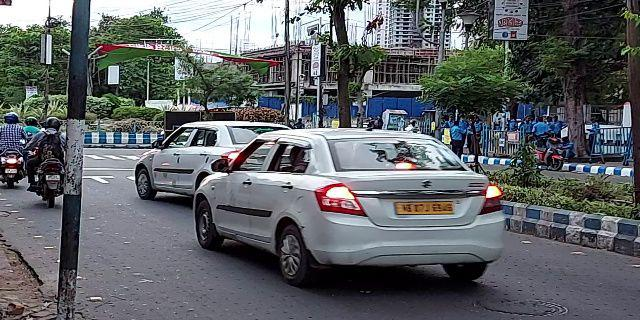Car: (190, 127, 514, 284), (130, 117, 286, 196)
Motorbike: (28, 116, 62, 209), (1, 109, 24, 189)
